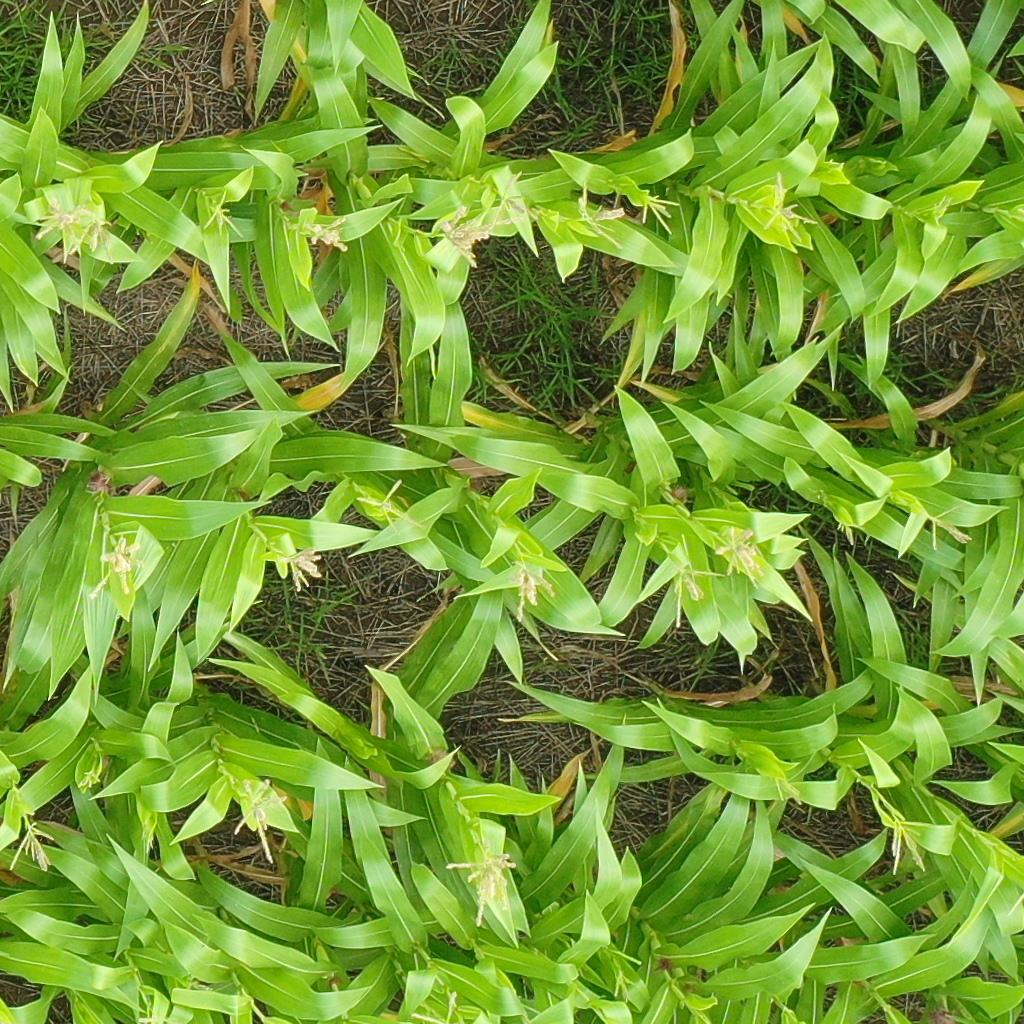Tassel: (445, 850, 515, 928), (233, 778, 289, 870), (439, 206, 519, 269), (572, 179, 629, 252), (762, 172, 818, 244), (32, 196, 88, 266), (354, 479, 425, 534), (673, 562, 725, 631), (93, 536, 145, 600), (509, 555, 557, 624), (486, 170, 541, 227), (715, 524, 766, 585), (69, 205, 118, 264), (7, 820, 57, 876), (926, 500, 975, 553), (275, 548, 327, 590), (200, 189, 244, 238), (890, 821, 927, 878), (302, 213, 351, 253), (640, 193, 682, 234), (413, 991, 457, 1024), (774, 774, 804, 808), (834, 517, 865, 544), (614, 972, 638, 1003), (932, 195, 953, 226), (79, 770, 102, 791), (142, 829, 156, 853), (826, 158, 845, 175)
